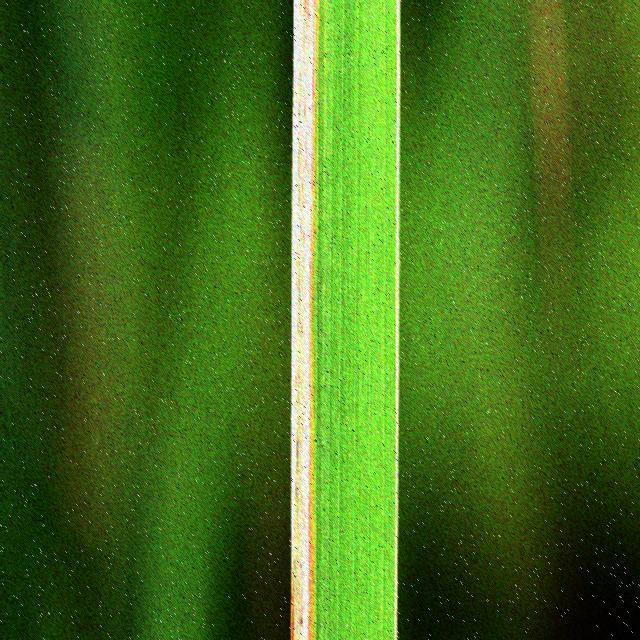BLB: (291, 0, 317, 638)
